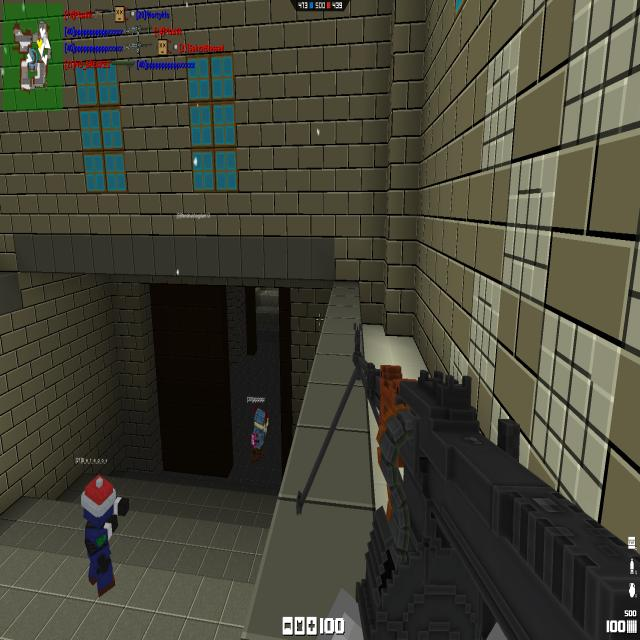player: (80, 476, 128, 594), (250, 404, 268, 464)
